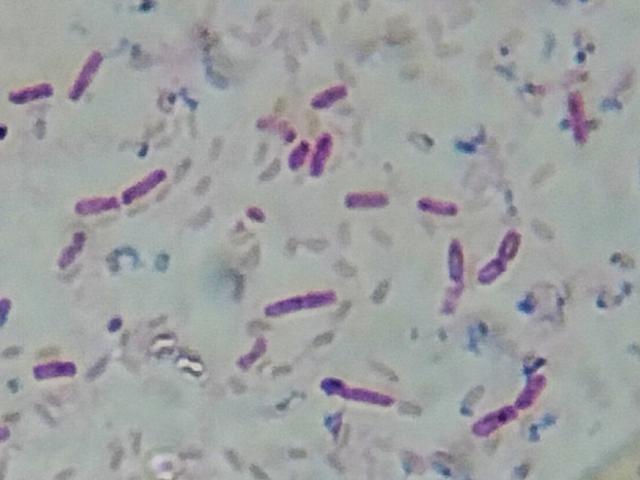E. coli: (319, 370, 399, 415), (62, 50, 118, 109), (264, 287, 339, 327), (479, 226, 527, 286), (437, 239, 466, 313), (4, 76, 60, 112), (513, 368, 555, 413), (470, 399, 517, 439), (122, 165, 168, 205), (26, 354, 76, 388), (565, 90, 592, 148), (340, 182, 392, 209), (303, 79, 345, 112), (55, 228, 88, 269), (412, 190, 456, 216), (313, 128, 335, 177), (73, 194, 117, 218), (284, 132, 309, 174), (326, 200, 330, 207)
